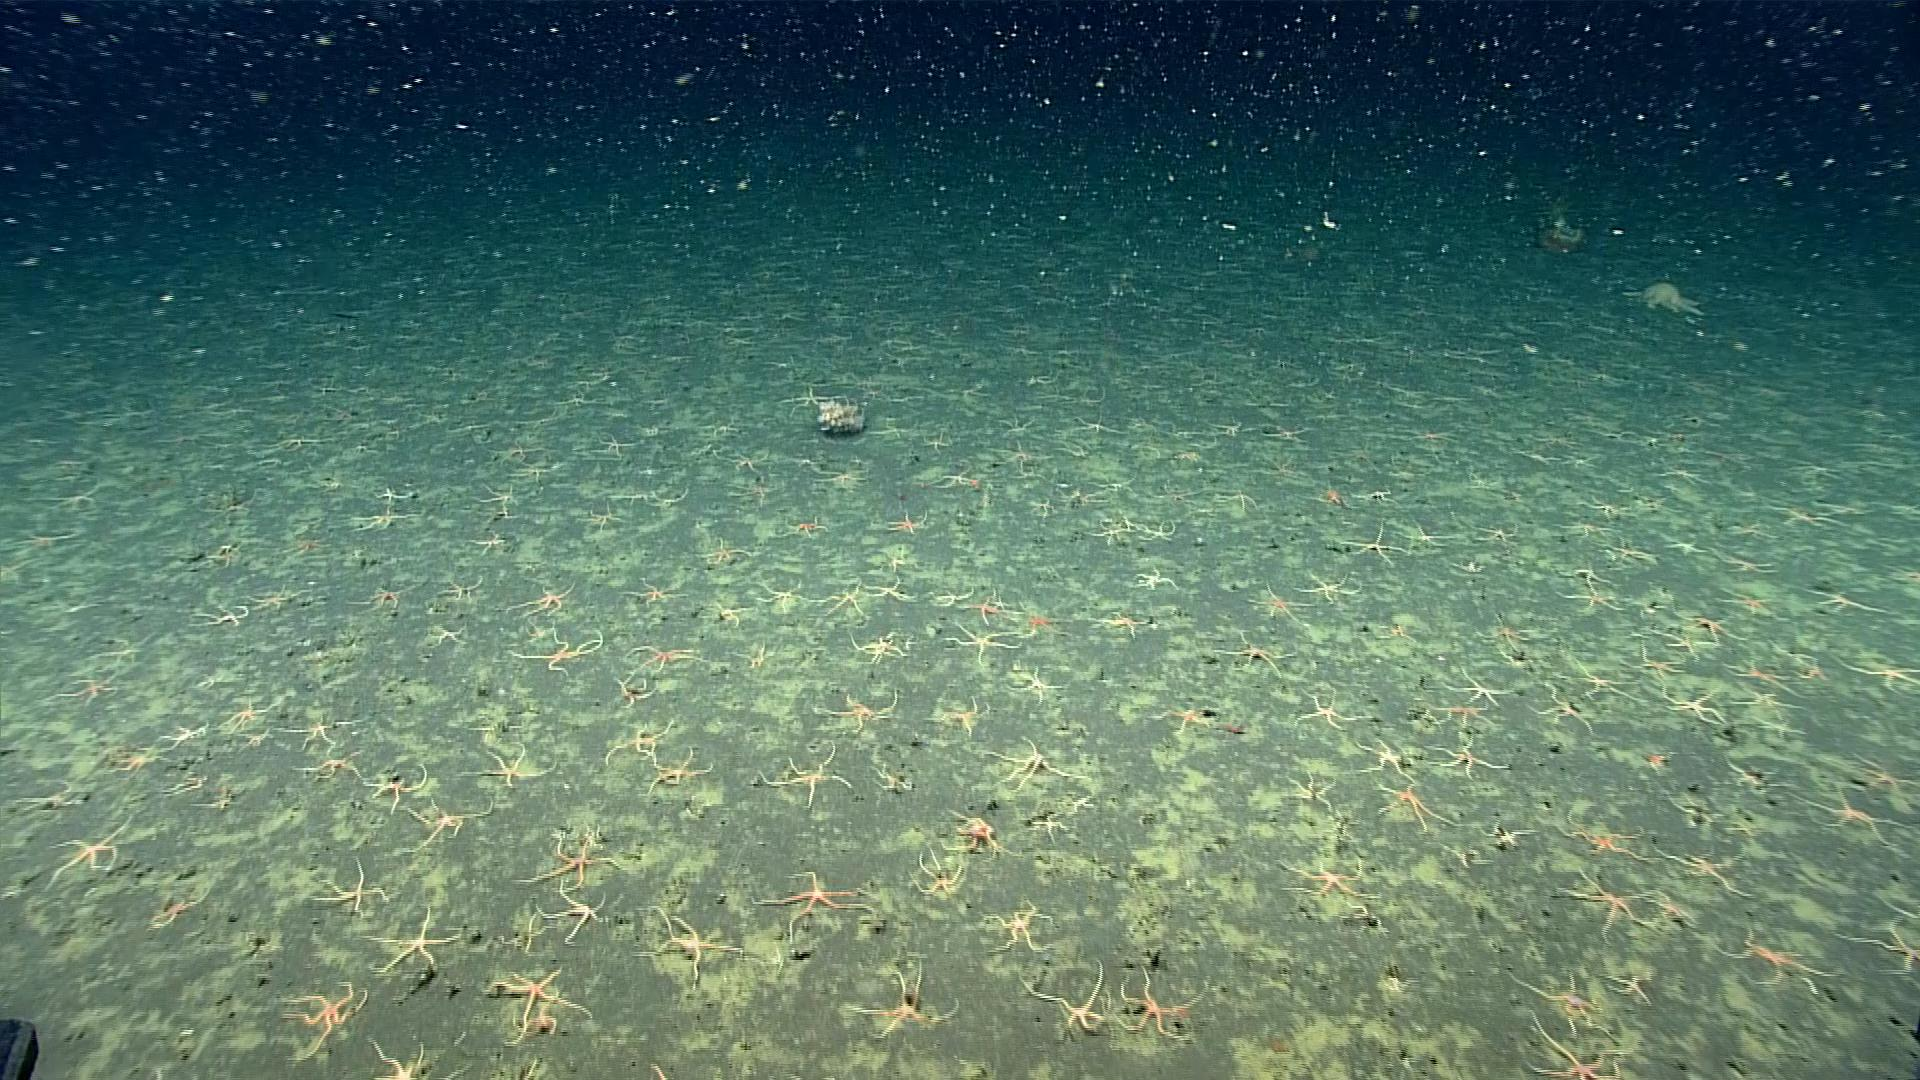brittle_sea_star: (1552, 862, 1671, 944), (1710, 919, 1833, 996), (753, 868, 878, 940), (840, 967, 965, 1038), (1017, 959, 1121, 1043), (487, 964, 595, 1044), (636, 905, 745, 982), (40, 811, 138, 891), (281, 980, 372, 1063), (361, 911, 467, 981), (1117, 965, 1205, 1039), (1833, 907, 1919, 982), (1278, 848, 1385, 907), (1507, 964, 1606, 1027), (1527, 1018, 1629, 1079), (516, 831, 613, 893), (1812, 791, 1907, 853), (1658, 844, 1756, 902), (1370, 775, 1466, 835), (769, 746, 853, 814), (404, 798, 508, 852), (534, 877, 609, 948), (1545, 812, 1646, 865), (512, 626, 613, 676), (986, 736, 1069, 796), (458, 741, 549, 795), (313, 857, 389, 919), (823, 682, 905, 738), (1552, 659, 1643, 708), (1423, 732, 1505, 782), (942, 620, 1030, 665), (1836, 650, 1919, 698), (1284, 687, 1369, 733), (1215, 636, 1296, 683), (985, 906, 1056, 956), (287, 744, 372, 786), (277, 711, 356, 754), (145, 884, 214, 934), (1352, 733, 1422, 782), (1336, 520, 1406, 568), (601, 719, 673, 766), (647, 746, 720, 793), (1530, 683, 1594, 733), (1441, 665, 1518, 707), (1555, 575, 1629, 616), (369, 1035, 438, 1079), (1247, 583, 1313, 628), (911, 855, 972, 901), (1809, 587, 1890, 621), (506, 582, 574, 622), (808, 576, 865, 622), (1662, 686, 1724, 728), (73, 651, 138, 691), (368, 769, 431, 810), (105, 737, 167, 778), (1625, 642, 1687, 682), (1733, 682, 1809, 713), (847, 632, 916, 666), (158, 716, 220, 754), (926, 698, 981, 740), (1151, 704, 1221, 737), (1295, 572, 1365, 605), (1006, 665, 1062, 705), (624, 644, 700, 673), (1478, 615, 1535, 651), (953, 810, 1004, 851), (752, 576, 807, 613), (621, 575, 683, 608), (219, 695, 276, 731), (347, 502, 413, 533), (1658, 626, 1720, 658), (351, 583, 411, 615), (1717, 587, 1783, 616), (436, 575, 491, 608), (1092, 611, 1149, 641), (423, 620, 475, 653), (695, 537, 753, 566), (477, 483, 524, 518), (154, 765, 208, 795), (612, 667, 653, 707), (578, 497, 626, 530), (961, 587, 1005, 624), (864, 574, 915, 604), (1863, 654, 1919, 682), (193, 604, 251, 630), (194, 793, 247, 819), (244, 589, 299, 615), (1133, 568, 1179, 596), (1133, 517, 1178, 545), (924, 584, 976, 608), (1611, 545, 1662, 568), (884, 509, 928, 535), (286, 535, 338, 558), (1087, 520, 1130, 546), (1760, 715, 1805, 740), (237, 728, 274, 757), (786, 512, 824, 538), (1476, 521, 1514, 545), (1029, 493, 1058, 520)
